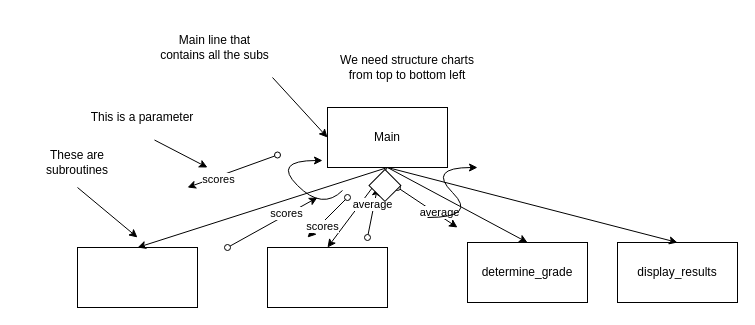
The diagram is 755 pixels wide and 325 high, and some of its shapes have lost their labels. Here are the shapes that lost their labels. From the top down, the centre of each, then its label:
At point (137, 277): "collect_scores".
At point (327, 277): "calculate_average".
